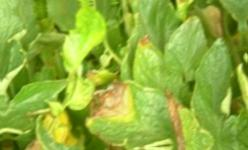Tomato mold leaf: (76, 60, 215, 150), (179, 35, 248, 143), (0, 71, 73, 136), (206, 0, 245, 48)
